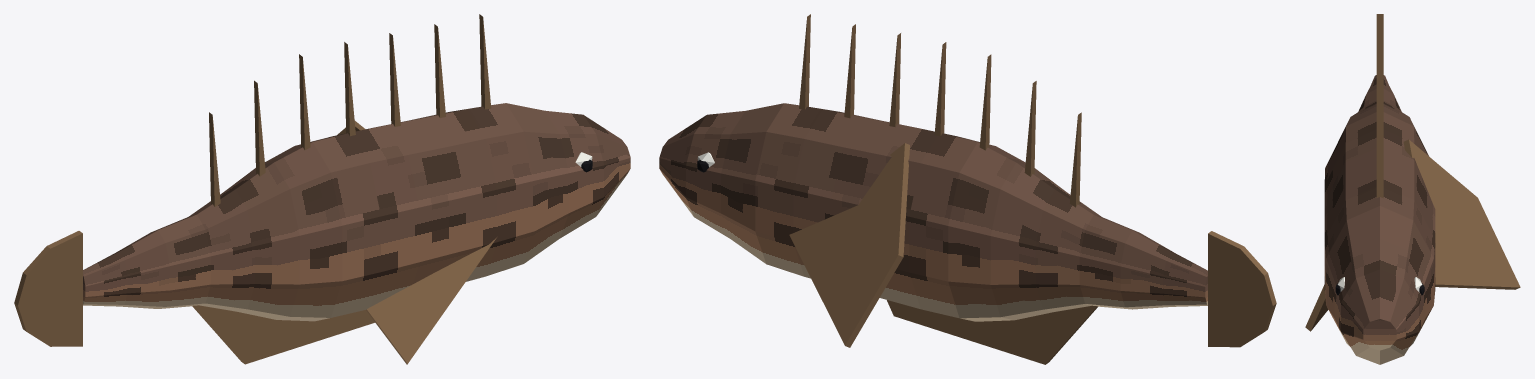
Rendered from eastern_fortescue.glb.
3 renders of one model, left to right at view 1: azimuth 30°, elevation 25°; view 2: azimuth 150°, elevation 25°; view 3: azimuth 270°, elevation 25°, orthographic. The views are drawn at different scales.
Visible parts, largest first — view 1: fish_eastern_fortescue; view 2: fish_eastern_fortescue; view 3: fish_eastern_fortescue.
Part boxes in pixels (x1,y1,x2,y2): fish_eastern_fortescue: [14, 14, 630, 364]; fish_eastern_fortescue: [659, 14, 1276, 364]; fish_eastern_fortescue: [1305, 14, 1520, 364].
Size of the model in its own units: 1.12 by 0.5308 by 0.37.
4 materials, 1 textured.
